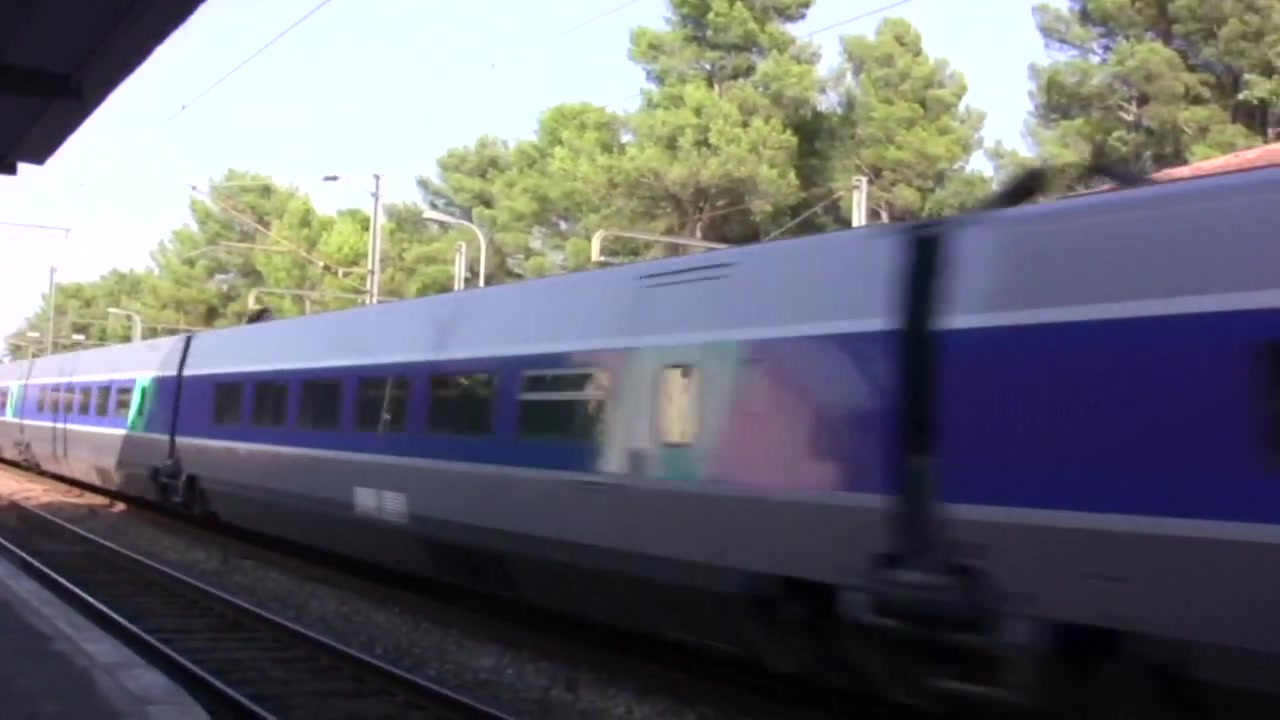train: (1, 167, 1280, 686)
